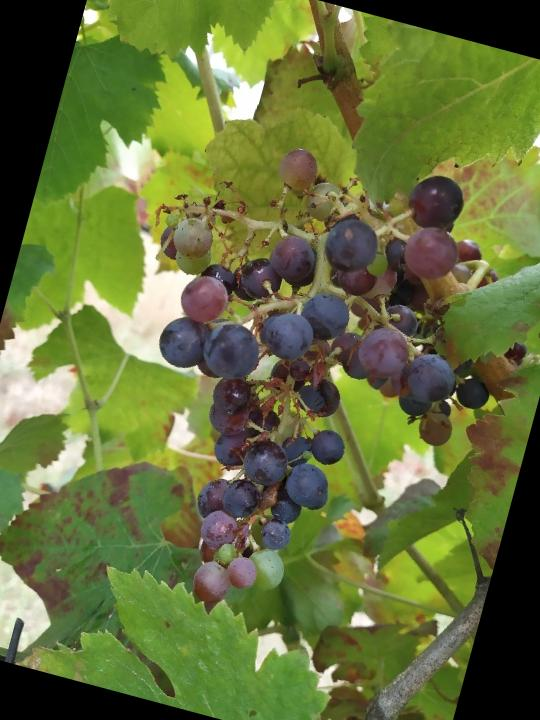grape: (60, 105, 540, 668)
